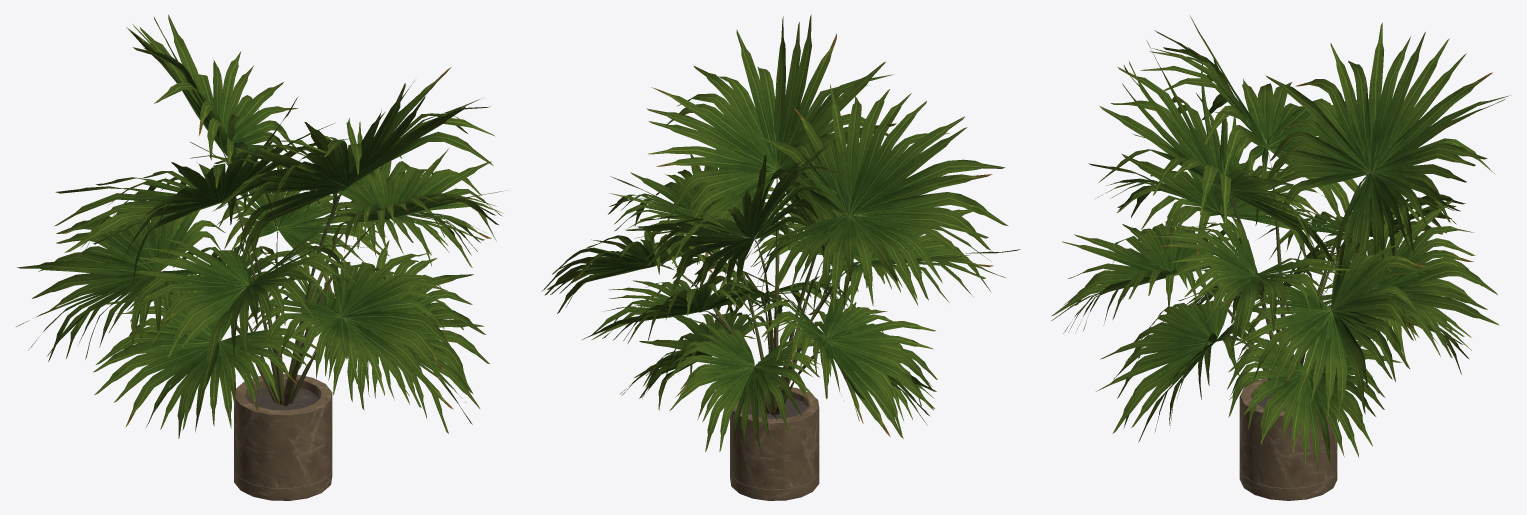
The model's file is plant.glb.
3 renders of one model, left to right at view 1: azimuth 30°, elevation 25°; view 2: azimuth 150°, elevation 25°; view 3: azimuth 270°, elevation 25°, orthographic. The views are drawn at different scales.
Visible parts, largest first — view 1: plant_leaves, plant_pot; view 2: plant_leaves, plant_pot; view 3: plant_leaves, plant_pot.
Part boxes in pixels (x1,y1,x2,y2): plant_leaves: [16, 14, 506, 438]; plant_pot: [234, 374, 332, 500]; plant_leaves: [541, 14, 1020, 451]; plant_pot: [730, 385, 819, 500]; plant_leaves: [1051, 16, 1510, 473]; plant_pot: [1239, 378, 1337, 500].
Bounding box in the file's own units: 1.6 × 1.53 × 1.45.
Materials: 2 (2 with a texture image).
